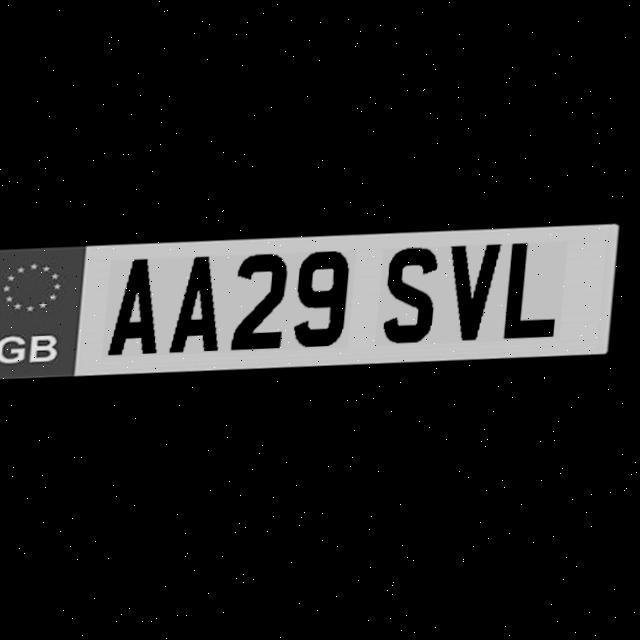license-plates: (0, 221, 621, 378)
